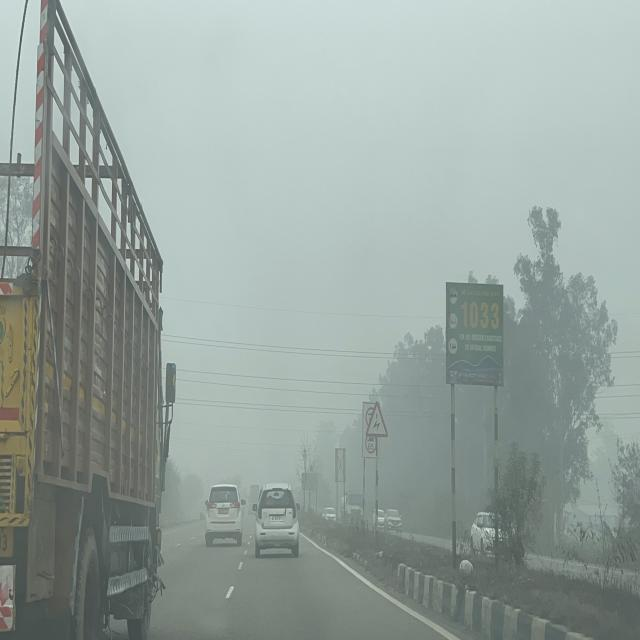WARNING: (366, 401, 388, 437)
